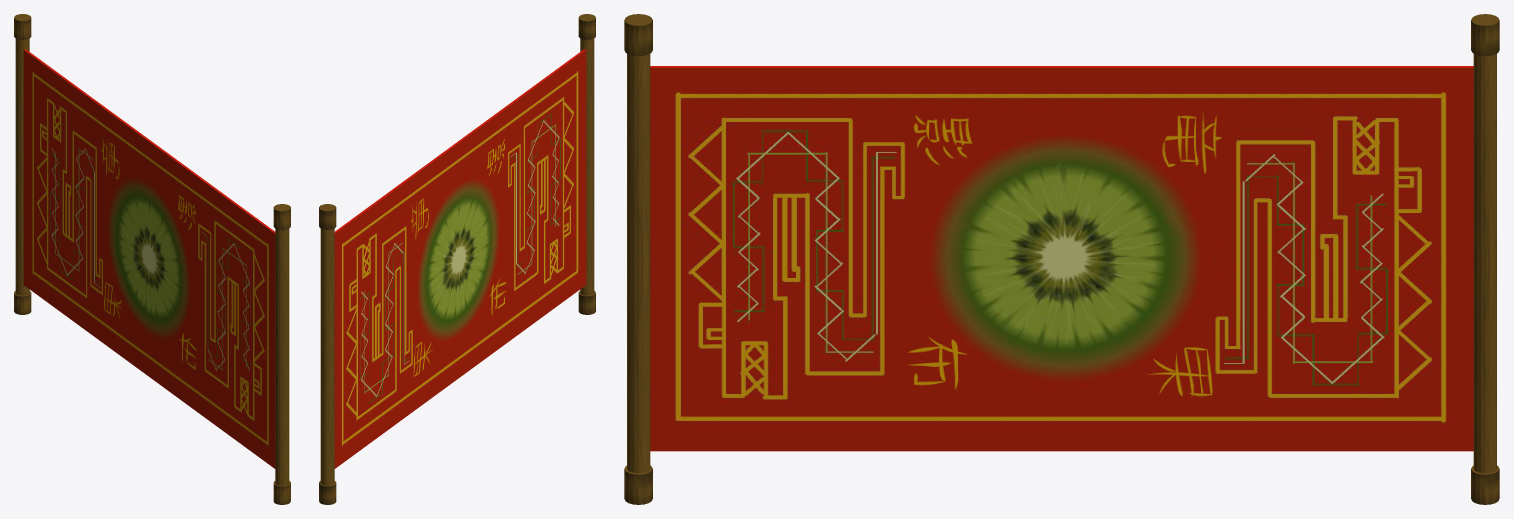
The model's file is banner.dae.
The picture shows the model from 3 angles, left to right: view 1: azimuth 30°, elevation 25°; view 2: azimuth 150°, elevation 25°; view 3: azimuth 270°, elevation 25°; orthographic projection. The views are drawn at different scales.
Parts seen in each view (by area): view 1: Plane_001, Cylinder_003, Cylinder_002; view 2: Plane_001, Cylinder_002, Cylinder_003; view 3: Plane_001, Cylinder_002, Cylinder_003.
Boxes of the visible parts, x1=… form: Plane_001: x1=23, y1=49, x2=275, y2=468; Cylinder_003: x1=273, y1=204, x2=290, y2=504; Cylinder_002: x1=14, y1=14, x2=31, y2=314; Plane_001: x1=334, y1=49, x2=586, y2=468; Cylinder_002: x1=319, y1=204, x2=336, y2=504; Cylinder_003: x1=578, y1=14, x2=595, y2=314; Plane_001: x1=650, y1=66, x2=1473, y2=451; Cylinder_002: x1=1471, y1=14, x2=1499, y2=504; Cylinder_003: x1=624, y1=14, x2=652, y2=504.
Size of the model in its own units: 0.1341 by 4.13 by 2.5.
1 material, 1 textured.
